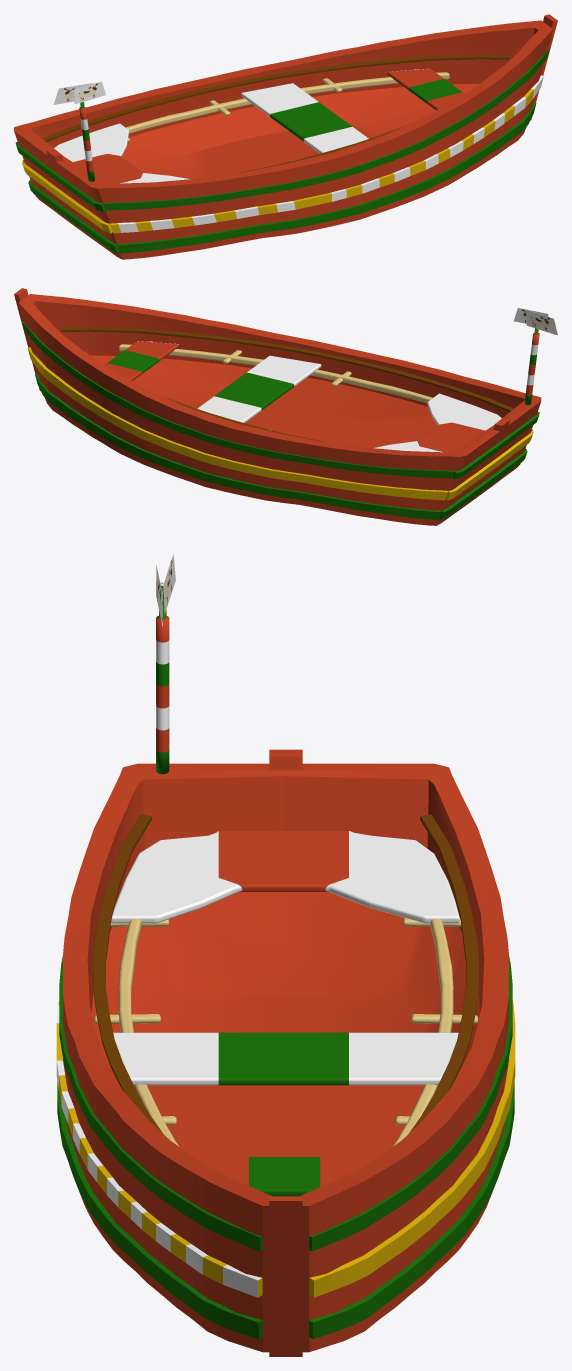
File: boat.fbx
3 views of the same model, one above another, from view 1: azimuth 30°, elevation 25°; view 2: azimuth 150°, elevation 25°; view 3: azimuth 270°, elevation 25° (orthographic). The views are drawn at different scales.
Visible parts, largest first — view 1: Plane, Plane.002, Plane.001, Plane.006, Plane.005, Plane.004, Plane.007, Plane.003, Circle, Circle.001, Circle.002; view 2: Plane, Plane.002, Plane.001, Plane.006, Plane.005, Plane.004, Plane.007, Plane.003, Circle, Circle.002; view 3: Plane, Plane.002, Plane.001, Plane.006, Plane.004, Plane.005, Plane.003, Circle.
Boxes of the visible parts, <box> form: Plane: <box>14,14,557,259</box>; Plane.002: <box>54,68,464,183</box>; Plane.001: <box>22,75,543,233</box>; Plane.006: <box>29,102,536,253</box>; Plane.005: <box>103,48,549,210</box>; Plane.004: <box>42,54,509,173</box>; Plane.007: <box>15,142,119,253</box>; Plane.003: <box>126,69,449,160</box>; Circle: <box>79,102,94,181</box>; Circle.001: <box>73,81,105,104</box>; Circle.002: <box>53,83,93,104</box>; Plane: <box>14,288,541,525</box>; Plane.002: <box>104,341,501,452</box>; Plane.001: <box>27,347,532,500</box>; Plane.006: <box>35,373,526,519</box>; Plane.005: <box>22,321,454,478</box>; Plane.004: <box>61,327,513,441</box>; Plane.007: <box>439,412,539,519</box>; Plane.003: <box>119,341,432,430</box>; Circle: <box>524,328,539,405</box>; Circle.002: <box>525,310,557,335</box>; Plane: <box>63,749,508,1356</box>; Plane.002: <box>111,830,459,1196</box>; Plane.001: <box>56,1000,515,1297</box>; Plane.006: <box>57,1081,514,1339</box>; Plane.004: <box>93,814,478,1133</box>; Plane.005: <box>59,956,512,1251</box>; Plane.003: <box>93,917,478,1146</box>; Circle: <box>156,582,169,774</box>.
Bounding box in the file's own units: 326 × 105 × 126.
7 materials, 1 textured.
